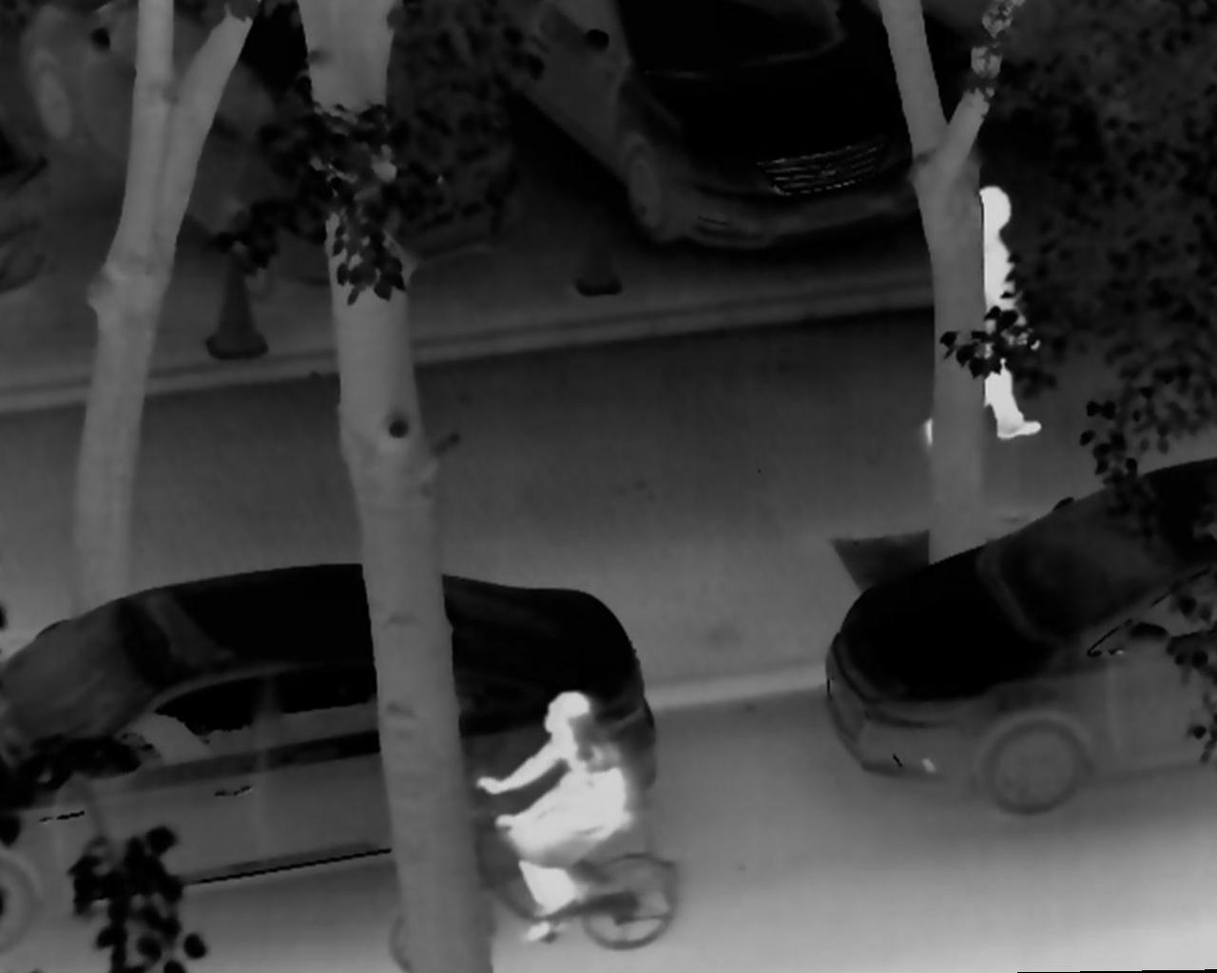person: (472, 685, 632, 941), (923, 179, 1051, 453)
